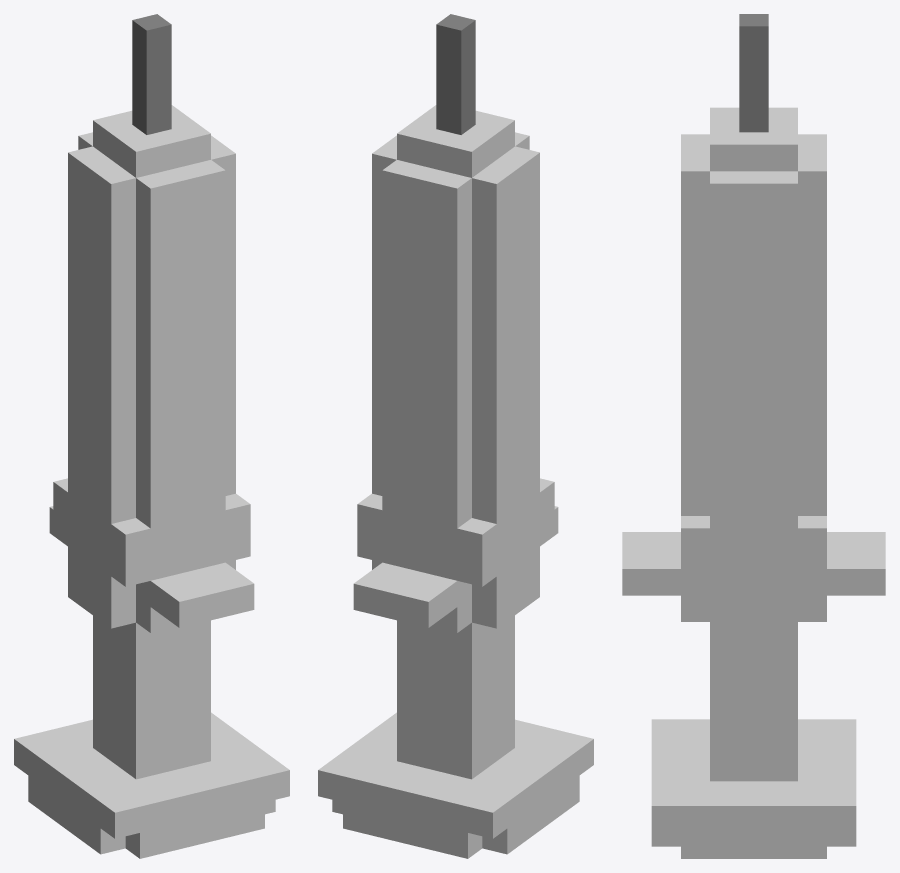
Rendered from 주사기.obj.
The picture shows the model from 3 angles, left to right: view 1: azimuth 30°, elevation 25°; view 2: azimuth 150°, elevation 25°; view 3: azimuth 270°, elevation 25°; orthographic projection.
Size of the model in its own units: 0.7 by 3 by 0.9.
Materials: 1 (1 with a texture image).
